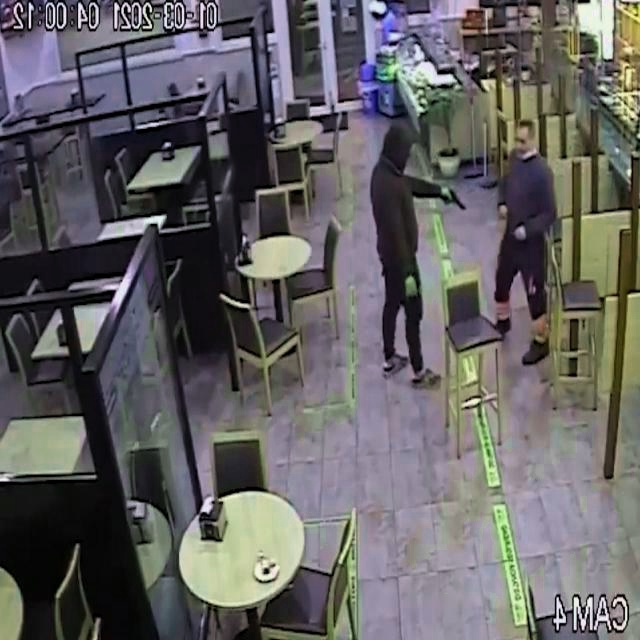gun: (432, 180, 477, 222)
